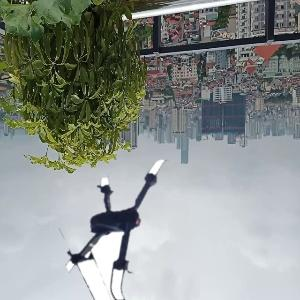drone: (53, 153, 195, 295)
